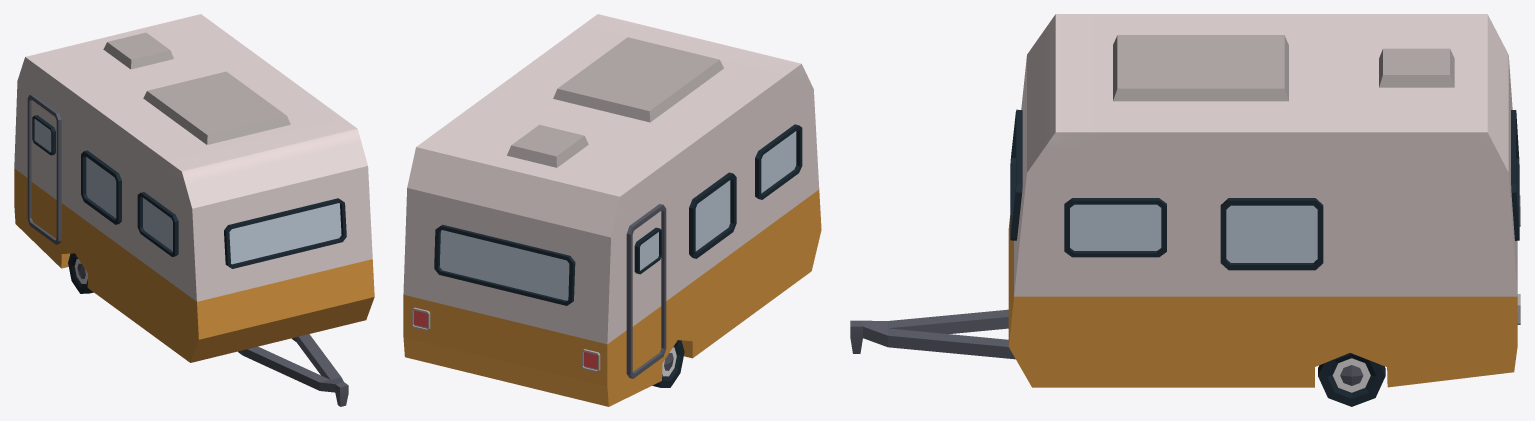
The model's file is CampTrailer01.fbx.
The picture shows the model from 3 angles, left to right: view 1: azimuth 30°, elevation 25°; view 2: azimuth 150°, elevation 25°; view 3: azimuth 270°, elevation 25°; orthographic projection. The views are drawn at different scales.
Visible parts, largest first — view 1: CampTrailer; view 2: CampTrailer; view 3: CampTrailer.
Part boxes in pixels (x1,y1,x2,y2): CampTrailer: [14, 14, 374, 406]; CampTrailer: [403, 14, 821, 406]; CampTrailer: [850, 14, 1520, 406].
Bounding box in the file's own units: 89.9 × 206 × 98.3.
